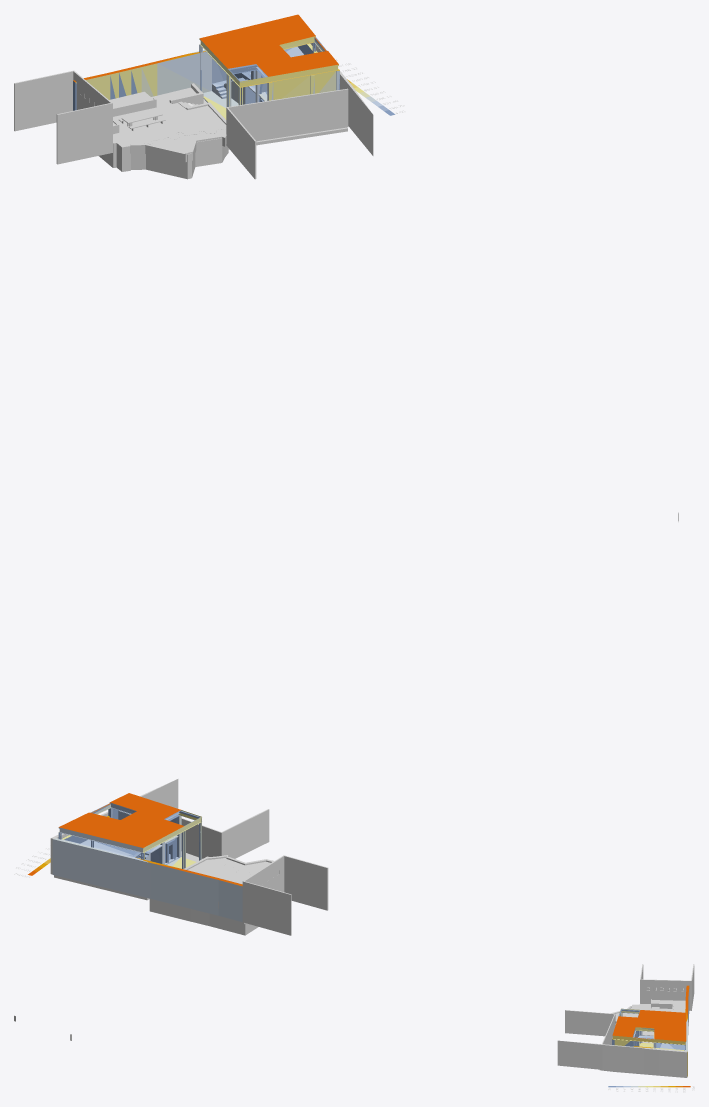
Rendered from incidentrad.glb.
3 renders of one model, top to bottom at view 1: azimuth 30°, elevation 25°; view 2: azimuth 150°, elevation 25°; view 3: azimuth 270°, elevation 25°, orthographic. The views are drawn at different scales.
Parts seen in each view (by area): view 1: radbake, 36 011, 113 011, 14 011, 114 011, 16 011, 123 011.001, 37 011; view 2: radbake, 16 011, 14 011, 113 011, 37 011, 36 011, 15 011, 123 011.001, 114 011; view 3: 123 011.001, radbake, 37 011, 15 011, 114 011, 20 011.
Boxes of the visible parts, bbox=[...] form: radbake: bbox=[73, 14, 339, 119]; 36 011: bbox=[226, 88, 348, 145]; 113 011: bbox=[99, 87, 228, 179]; 14 011: bbox=[56, 102, 112, 164]; 114 011: bbox=[113, 103, 226, 147]; 16 011: bbox=[14, 71, 73, 131]; 123 011.001: bbox=[311, 43, 373, 155]; 37 011: bbox=[226, 107, 256, 179]; radbake: bbox=[52, 793, 242, 922]; 16 011: bbox=[244, 881, 291, 935]; 14 011: bbox=[283, 855, 328, 910]; 113 011: bbox=[149, 858, 270, 935]; 37 011: bbox=[222, 809, 269, 858]; 36 011: bbox=[181, 818, 222, 858]; 15 011: bbox=[242, 856, 284, 924]; 123 011.001: bbox=[50, 779, 178, 874]; 114 011: bbox=[188, 859, 252, 881]; 123 011.001: bbox=[557, 1040, 687, 1077]; radbake: bbox=[612, 985, 689, 1076]; 37 011: bbox=[565, 1010, 614, 1036]; 15 011: bbox=[641, 979, 691, 1010]; 114 011: bbox=[630, 1004, 672, 1034]; 20 011: bbox=[652, 1000, 685, 1012].
Size of what is drawn, in the model's own units: 34.65 by 7.14 by 104.
